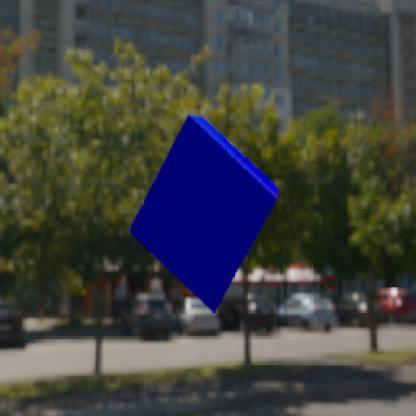cube: (127, 112, 277, 314)
